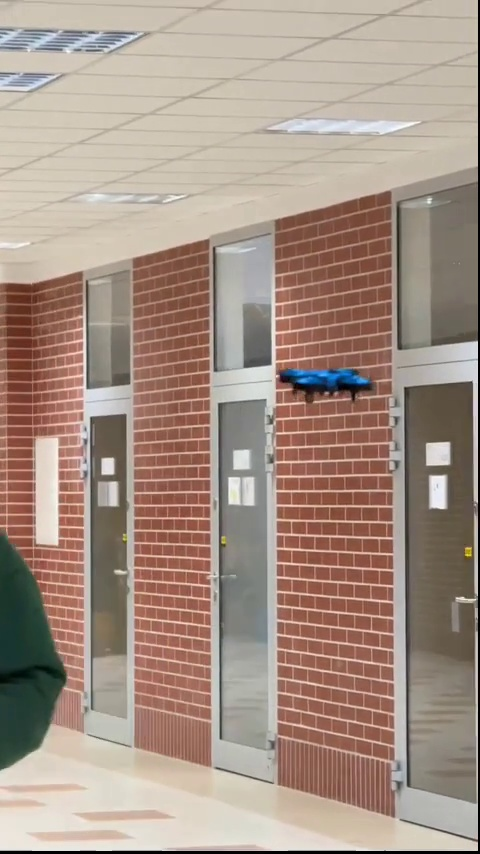drone: (275, 366, 370, 396)
